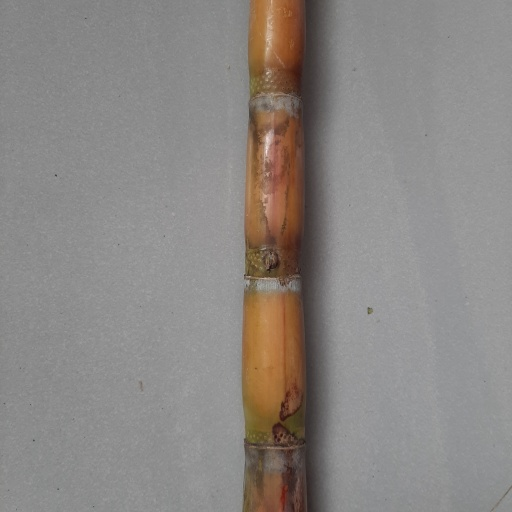Bud: (260, 248, 280, 275)
